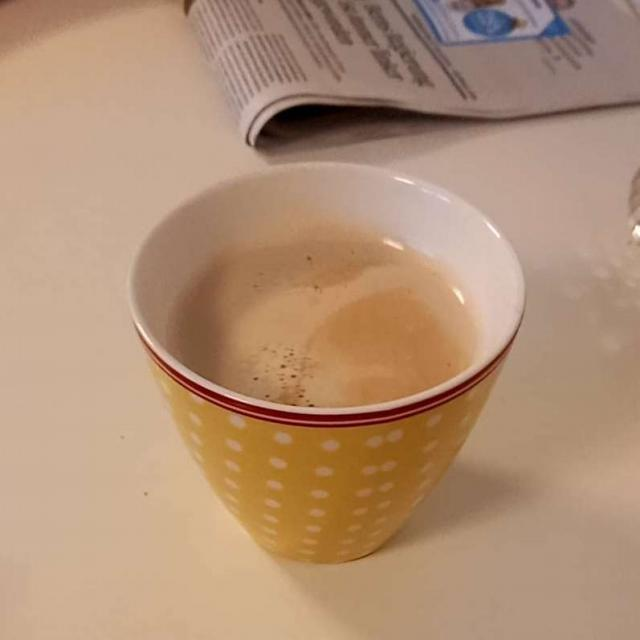coffee: (168, 224, 473, 406)
